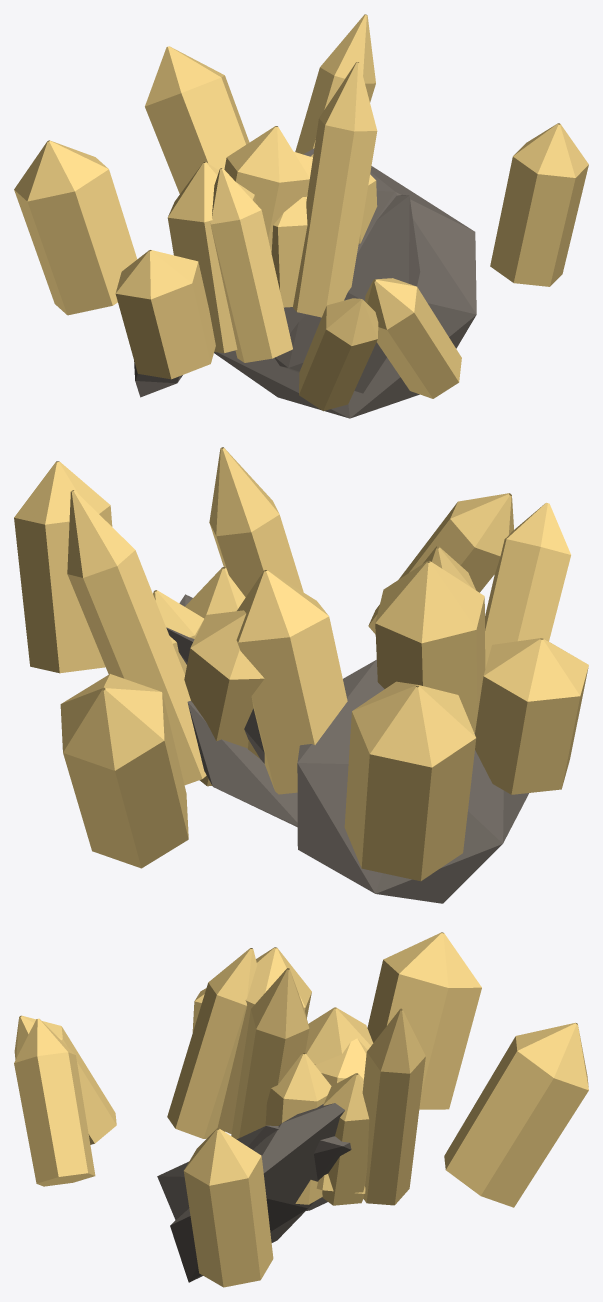
File: ore3.glb
3 views of the same model, one above another, from view 1: azimuth 30°, elevation 25°; view 2: azimuth 150°, elevation 25°; view 3: azimuth 270°, elevation 25° (orthographic). The views are drawn at different scales.
Parts seen in each view (by area): view 1: Ore; view 2: Ore; view 3: Ore.
Part boxes in pixels (<box>): Ore: <box>14,14,588,418</box>; Ore: <box>14,447,588,903</box>; Ore: <box>14,932,588,1287</box>.
Size of the model in its own units: 3.28 by 2.12 by 3.52.
